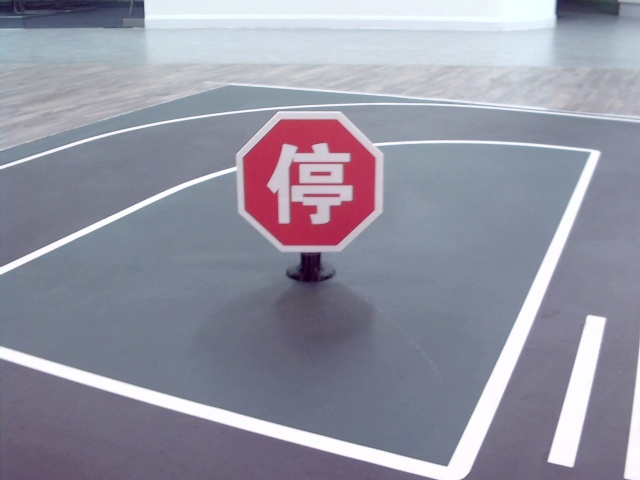stop: (268, 141, 352, 223)
